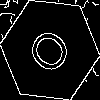O: (25, 25, 81, 83)
